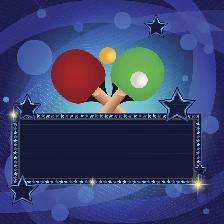WhiteBall: (129, 70, 148, 88)
YellowBall: (98, 46, 117, 64)
